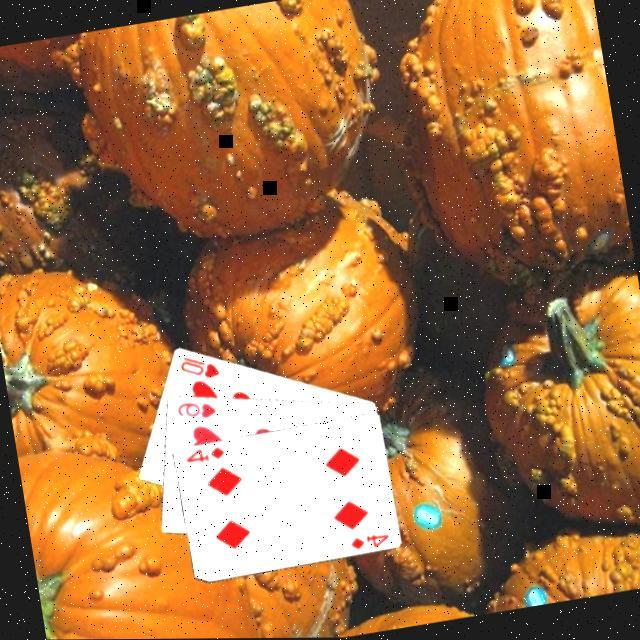10H: (177, 347, 225, 384)
4D: (183, 440, 230, 467), (347, 527, 395, 552)
6H: (174, 393, 221, 424)
